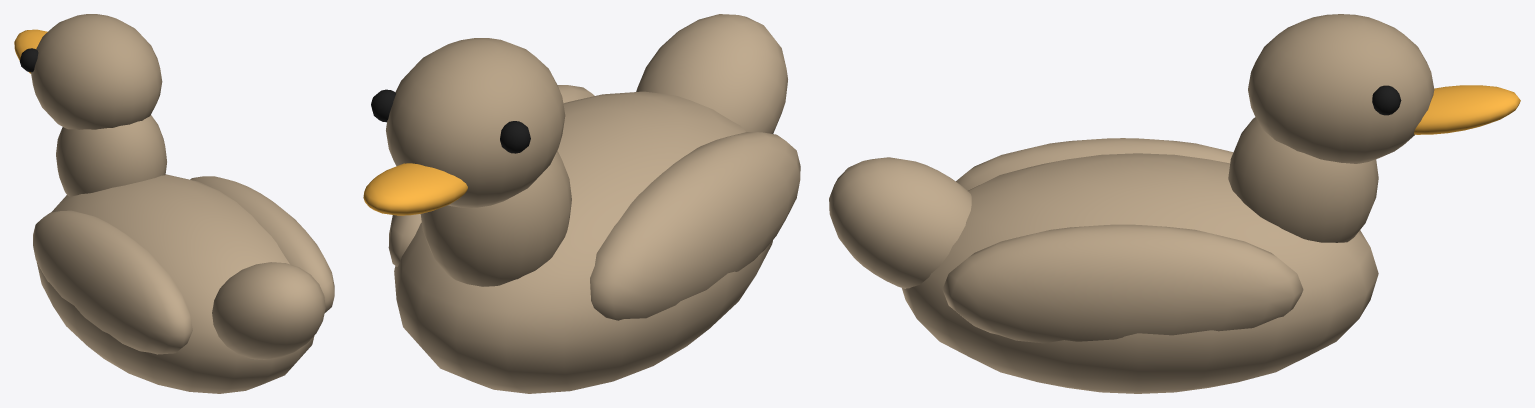
File: Patos.fbx
3 renders of one model, left to right at view 1: azimuth 30°, elevation 25°; view 2: azimuth 150°, elevation 25°; view 3: azimuth 270°, elevation 25°, orthographic. The views are drawn at different scales.
Visible parts, largest first — view 1: Pata; view 2: Pata; view 3: Pata.
Part boxes in pixels (<box>): Pata: <box>14,14,334,393</box>; Pata: <box>363,14,800,393</box>; Pata: <box>829,14,1520,393</box>.
Bounding box in the file's own units: 0.206 × 0.26 × 0.4599.
